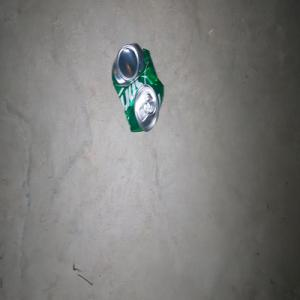SodaCan: (111, 42, 164, 132)
